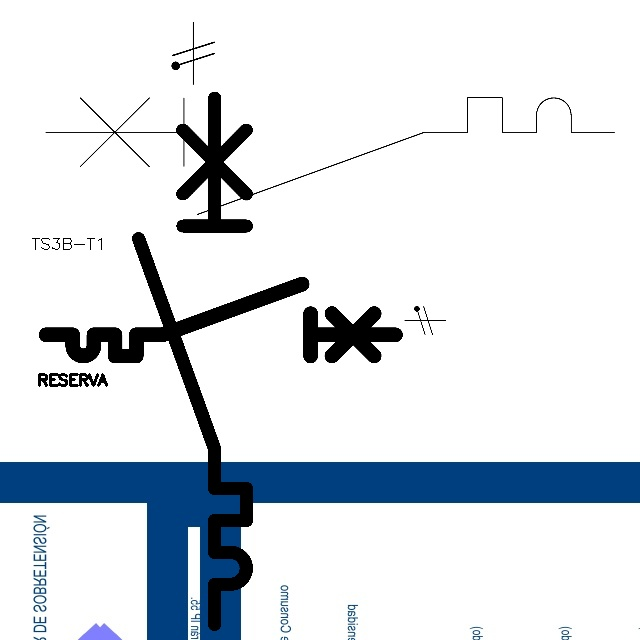interruptor_termomagnetico: (31, 83, 629, 229), (125, 84, 260, 638), (37, 275, 404, 365)
